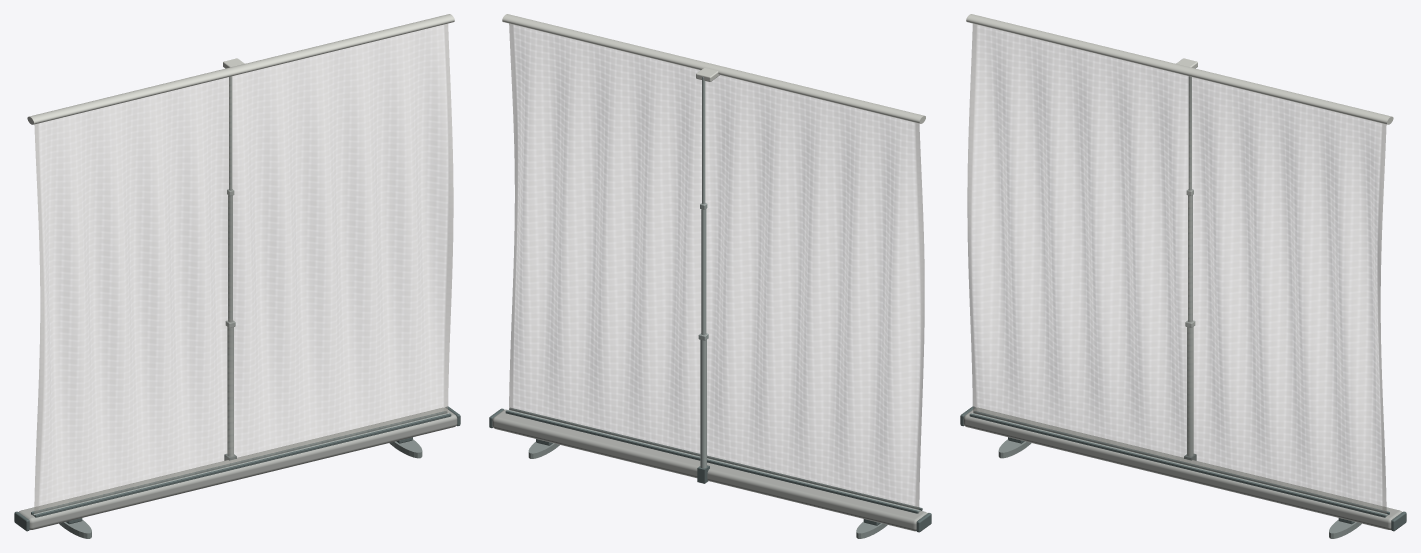
The picture shows the model from 3 angles, left to right: view 1: azimuth 30°, elevation 25°; view 2: azimuth 150°, elevation 25°; view 3: azimuth 330°, elevation 25°; orthographic projection.
Visible parts, largest first — view 1: fabric-sheet, roller-case, lift-rail, roller-mouth, lift-mast, roller-drum; view 2: fabric-sheet, roller-case, lift-rail, roller-mouth, lift-mast, roller-drum; view 3: fabric-sheet, roller-case, lift-rail, roller-mouth, lift-mast, roller-drum.
Boxes of the visible parts, <box> form: fabric-sheet: <box>34,23,453,513</box>; roller-case: <box>19,407,457,529</box>; lift-rail: <box>27,14,454,124</box>; roller-mouth: <box>31,411,451,517</box>; lift-mast: <box>225,76,235,456</box>; roller-drum: <box>32,413,448,516</box>; fabric-sheet: <box>509,23,924,509</box>; roller-case: <box>492,409,927,531</box>; lift-rail: <box>502,14,925,123</box>; roller-mouth: <box>505,407,922,513</box>; lift-mast: <box>698,77,708,468</box>; roller-drum: <box>508,410,920,512</box>; fabric-sheet: <box>967,23,1386,513</box>; roller-case: <box>963,407,1401,529</box>; lift-rail: <box>966,14,1393,124</box>; roller-mouth: <box>969,411,1389,517</box>; lift-mast: <box>1185,76,1195,456</box>; roller-drum: <box>972,413,1388,516</box>.
Size of the model in its own units: 2.05 by 1.9 by 0.278.
6 materials, 1 textured.
